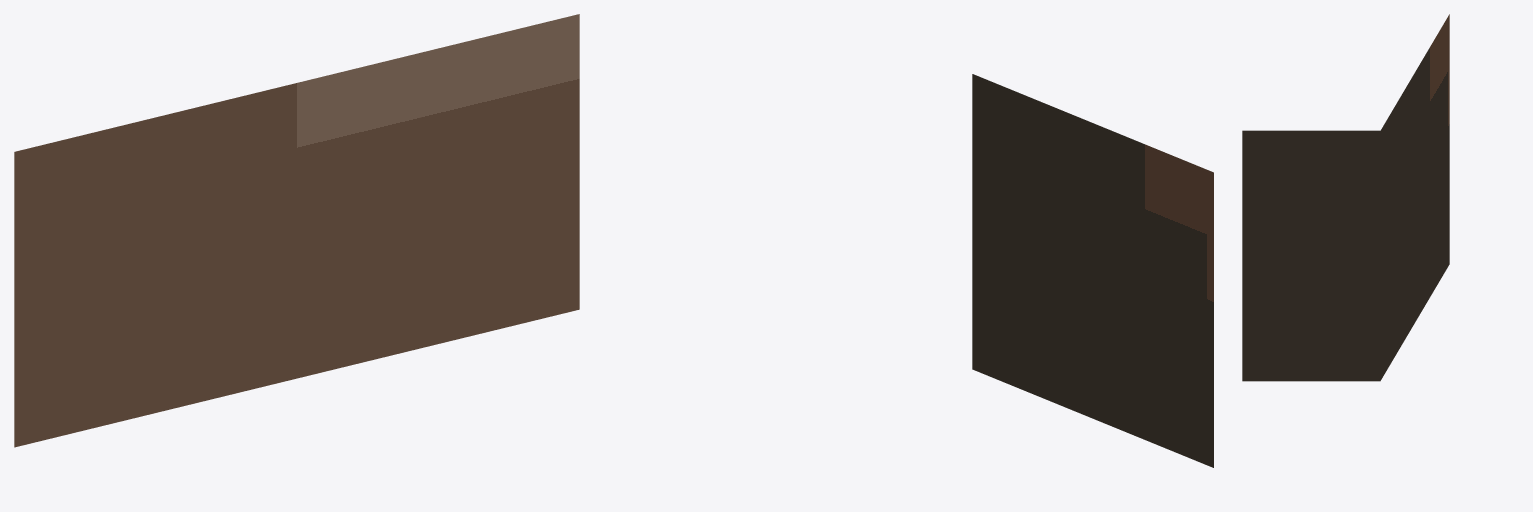
3 views of the same model, side by side, from view 1: azimuth 30°, elevation 25°; view 2: azimuth 150°, elevation 25°; view 3: azimuth 270°, elevation 25° (orthographic). The views are drawn at different scales.
Bounding box in the file's own units: 1 × 0.5 × 0.5.
Materials: 1 (1 with a texture image).
